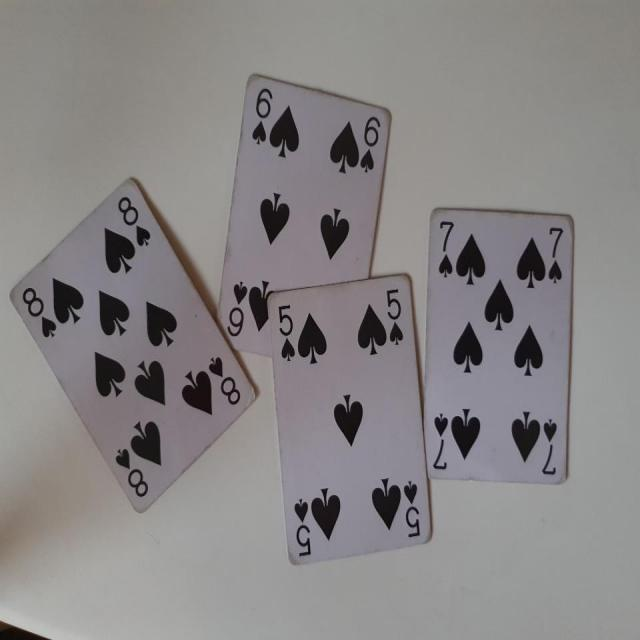5 Spades: (264, 265, 435, 575)
6 Spades: (206, 59, 386, 378)
7 Spades: (412, 202, 579, 497)
8 Spades: (9, 171, 259, 529)
